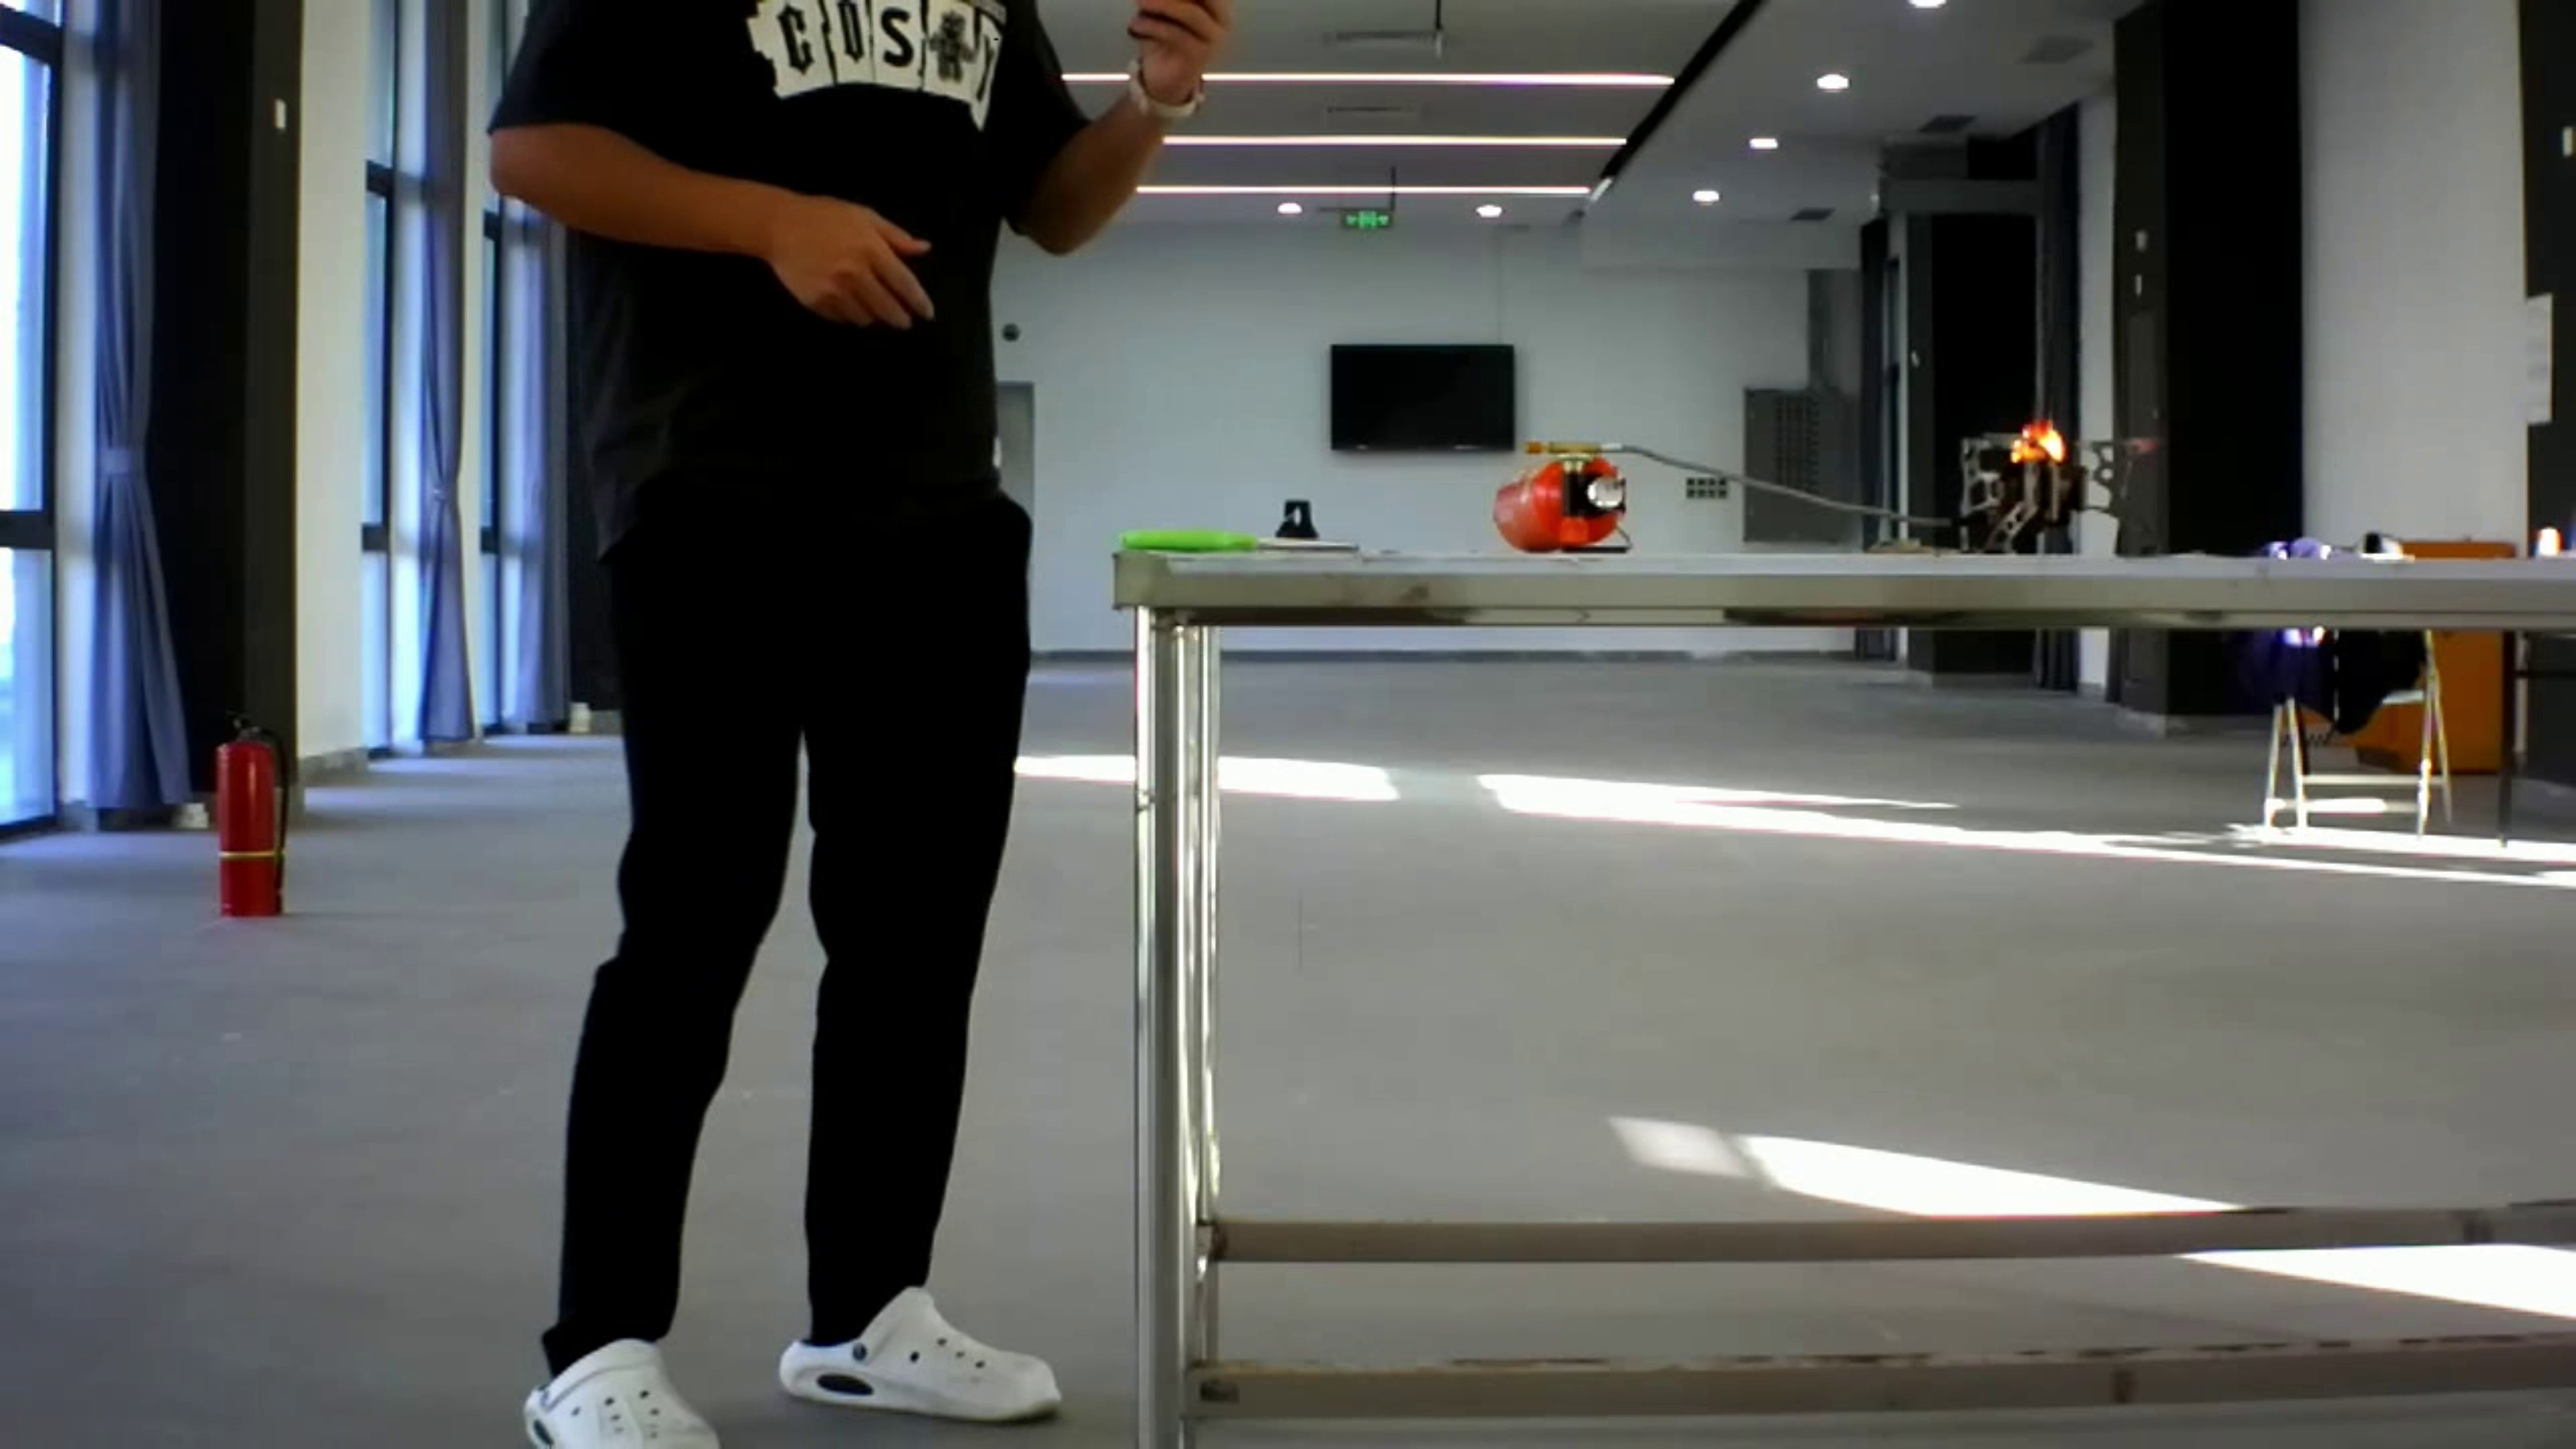Fire: (1990, 396, 2088, 478)
